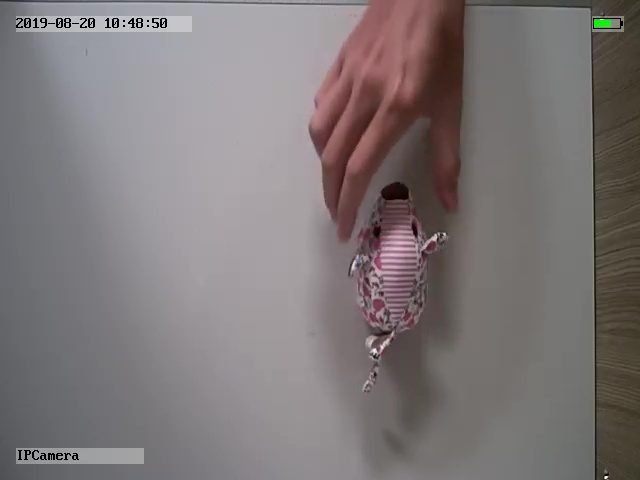pig: (347, 183, 450, 394)
